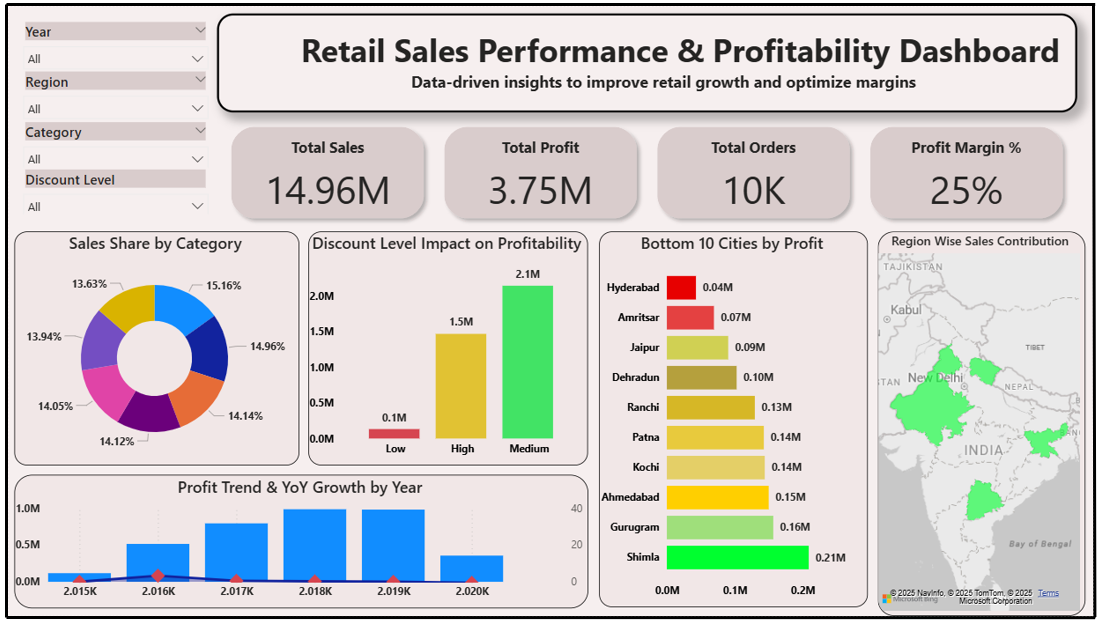

Layout of this report page (visuals, bound fields, positions):
{"tool":"powerbi","page":{"name":" Retail_Sales_Dashboard","canvas":[1280,720],"ordinal":0},"visuals":[{"type":"textbox","box":[246.2,9,1014.1,116.7],"z":0},{"type":"slicer","fields":{"Values":["retail_sales.Order_Year"]},"box":[7.7,14.1,238.5,60.4],"z":0,"group":"g2"},{"type":"slicer","fields":{"Values":["retail_sales.Region"]},"box":[7.7,72.1,238.5,60.4],"z":1000,"group":"g2"},{"type":"cardVisual","fields":{"Data":["Measure Tables.Total Sales","Measure Tables.Total Profit","Measure Tables.Total Orders","Measure Tables.Profit Margin %"]},"box":[246.2,125.6,1014.1,142.3],"z":1000},{"type":"group","id":"g1","title":"Group 1","box":[7.7,14.1,238.5,232.1],"z":2000},{"type":"slicer","fields":{"Values":["retail_sales.Category"]},"box":[7.7,131.8,238.5,58],"z":3000,"group":"g2"},{"type":"donutChart","title":"Sales Share by Category","fields":{"Category":["retail_sales.Category"],"Y":["Measure Tables.Total Sales"]},"box":[7.7,266.7,335.9,275.6],"z":3000},{"type":"lineClusteredColumnComboChart","title":"Profit Trend & YoY Growth by Year","fields":{"Category":["DateTable.Year"],"Y":["Measure Tables.Total Profit"],"Y2":["Measure Tables.Sales YoY %"]},"box":[7.7,553.8,676.9,157.7],"z":4000},{"type":"slicer","fields":{"Values":["retail_sales.Discount Level"]},"box":[7.7,188.3,238.5,57.8],"z":5000,"group":"g2"},{"type":"filledMap","title":"Region Wise Sales Contribution","fields":{"Category":["retail_sales.State"]},"box":[1025.6,266.7,244.9,453.8],"z":5000},{"type":"clusteredColumnChart","title":"Discount Level Impact on Profitability","fields":{"Y":["Measure Tables.Total Profit"],"Category":["DiscountLevelSort.Discount Level"]},"box":[355.1,266.7,329.5,275.6],"z":6000},{"type":"clusteredBarChart","title":"Bottom 10 Cities by Profit","fields":{"Category":["retail_sales.City"],"Y":["Measure Tables.Total Profit"]},"box":[697.4,266.7,316.7,443.6],"z":7000},{"type":"group","id":"g2","title":"Group 2","box":[7.7,14.1,238.5,232.1],"z":7001,"group":"g1"}]}

Visuals, with their boxes in screenshot pixels (x1, y1, x2, y2), scaled from the page's 1280x720 canvas onto the 1098x621 screenshot:
textbox: (211,8,1081,108)
slicer - retail_sales.Order_Year: (7,12,211,64)
slicer - retail_sales.Region: (7,62,211,114)
cardVisual - Measure Tables.Total Sales x Measure Tables.Total Profit: (211,108,1081,231)
"Group 1" group: (7,12,211,212)
slicer - retail_sales.Category: (7,114,211,164)
"Sales Share by Category" donutChart: (7,230,295,468)
"Profit Trend & YoY Growth by Year" lineClusteredColumnComboChart: (7,478,587,614)
slicer - retail_sales.Discount Level: (7,162,211,212)
"Region Wise Sales Contribution" filledMap: (880,230,1090,620)
"Discount Level Impact on Profitability" clusteredColumnChart: (305,230,587,468)
"Bottom 10 Cities by Profit" clusteredBarChart: (598,230,870,613)
"Group 2" group: (7,12,211,212)
